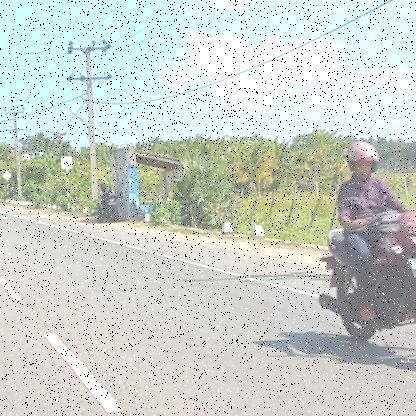motorcycle: (309, 209, 416, 380)
